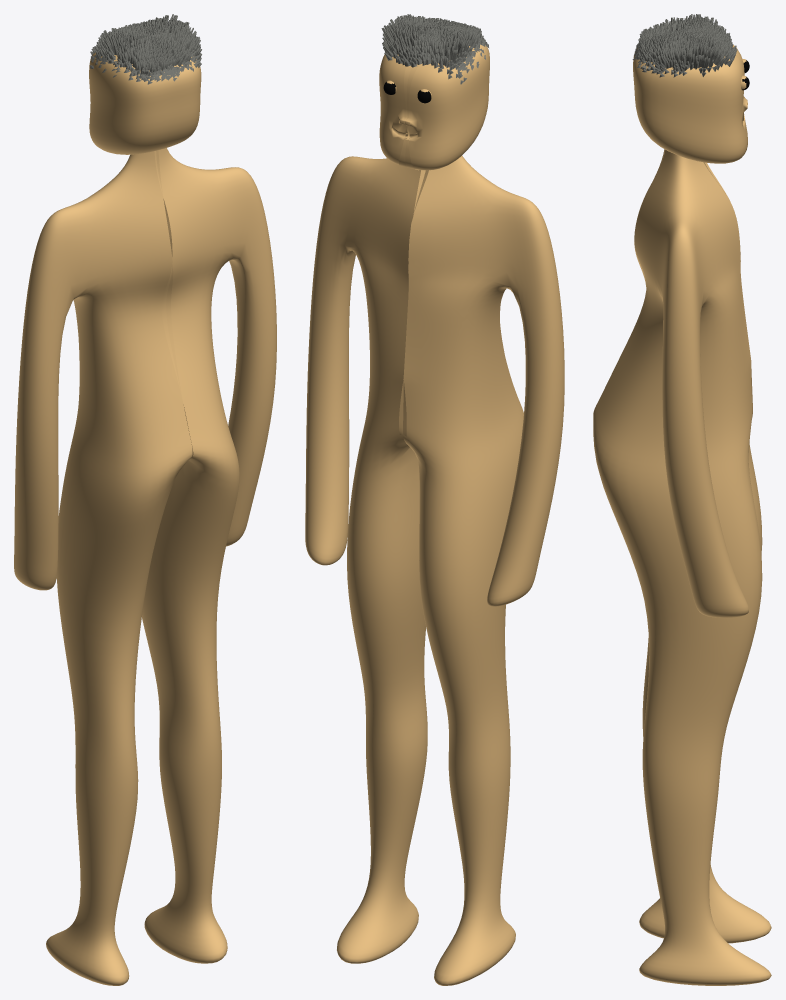
File: character.glb
The picture shows the model from 3 angles, left to right: view 1: azimuth 30°, elevation 25°; view 2: azimuth 150°, elevation 25°; view 3: azimuth 270°, elevation 25°; orthographic projection.
Parts seen in each view (by area): view 1: Cube, Hair; view 2: Cube, Hair; view 3: Cube, Hair.
Part boxes in pixels (x1,y1,x2,y2): Cube: (14, 52, 276, 985); Hair: (90, 14, 201, 84); Cube: (305, 44, 564, 985); Hair: (381, 14, 488, 84); Cube: (593, 45, 771, 985); Hair: (632, 14, 737, 77).
Bounding box in the file's own units: 2.79 × 9.86 × 1.72.
